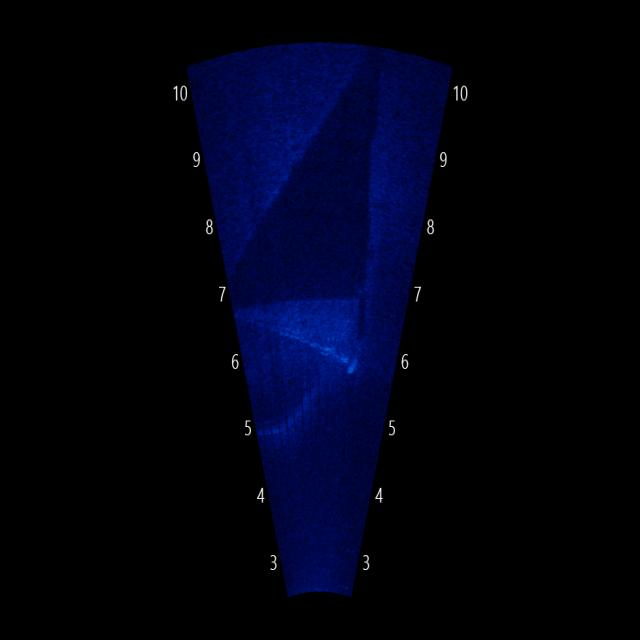triangle: (238, 292, 379, 390)
